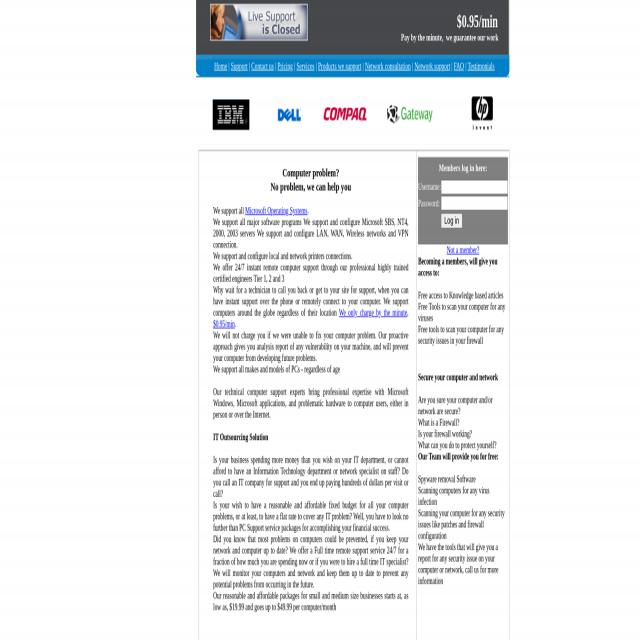button: (210, 2, 307, 40), (386, 96, 432, 130), (320, 98, 368, 128), (212, 98, 249, 128), (467, 96, 495, 130), (276, 99, 304, 127), (440, 211, 462, 227)
field: (440, 178, 508, 194), (440, 194, 508, 210)
